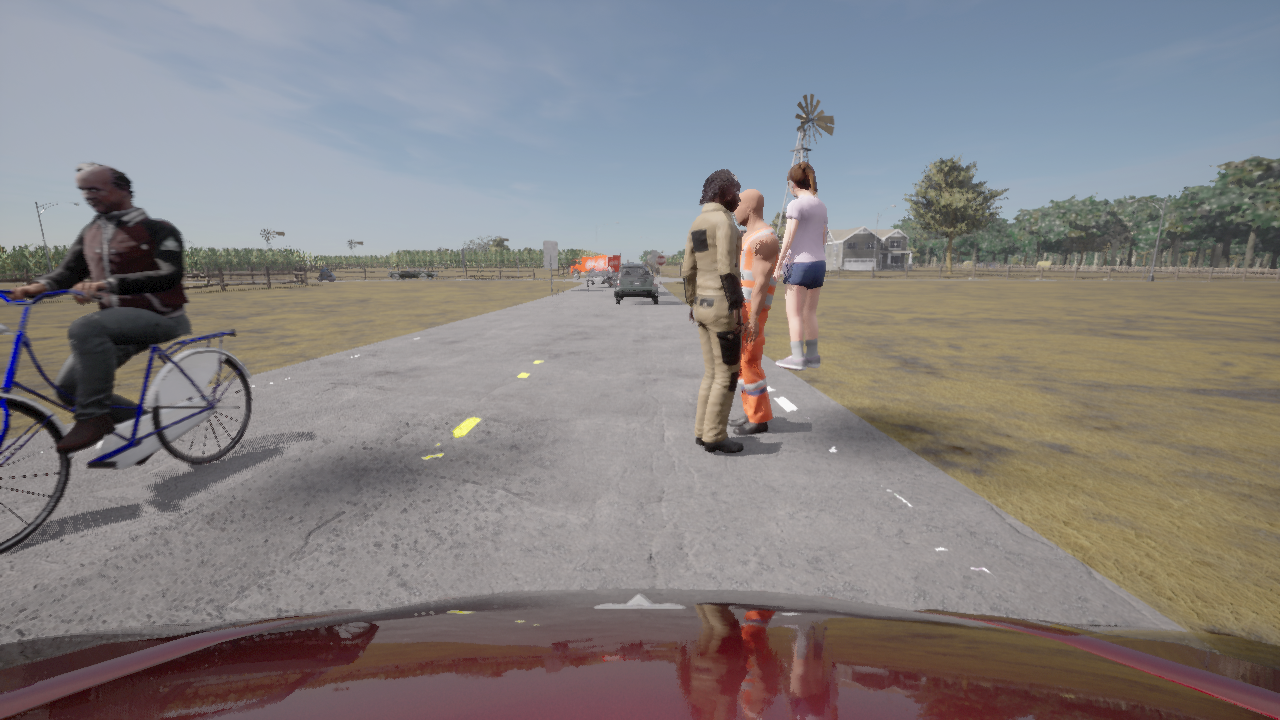cyclist: (0, 588, 1279, 719), (0, 289, 250, 553), (615, 263, 658, 304), (569, 255, 619, 279), (585, 266, 614, 287), (388, 268, 438, 279), (318, 271, 334, 280)
pedestrian: (681, 169, 742, 452), (727, 190, 779, 434), (772, 161, 826, 370)
